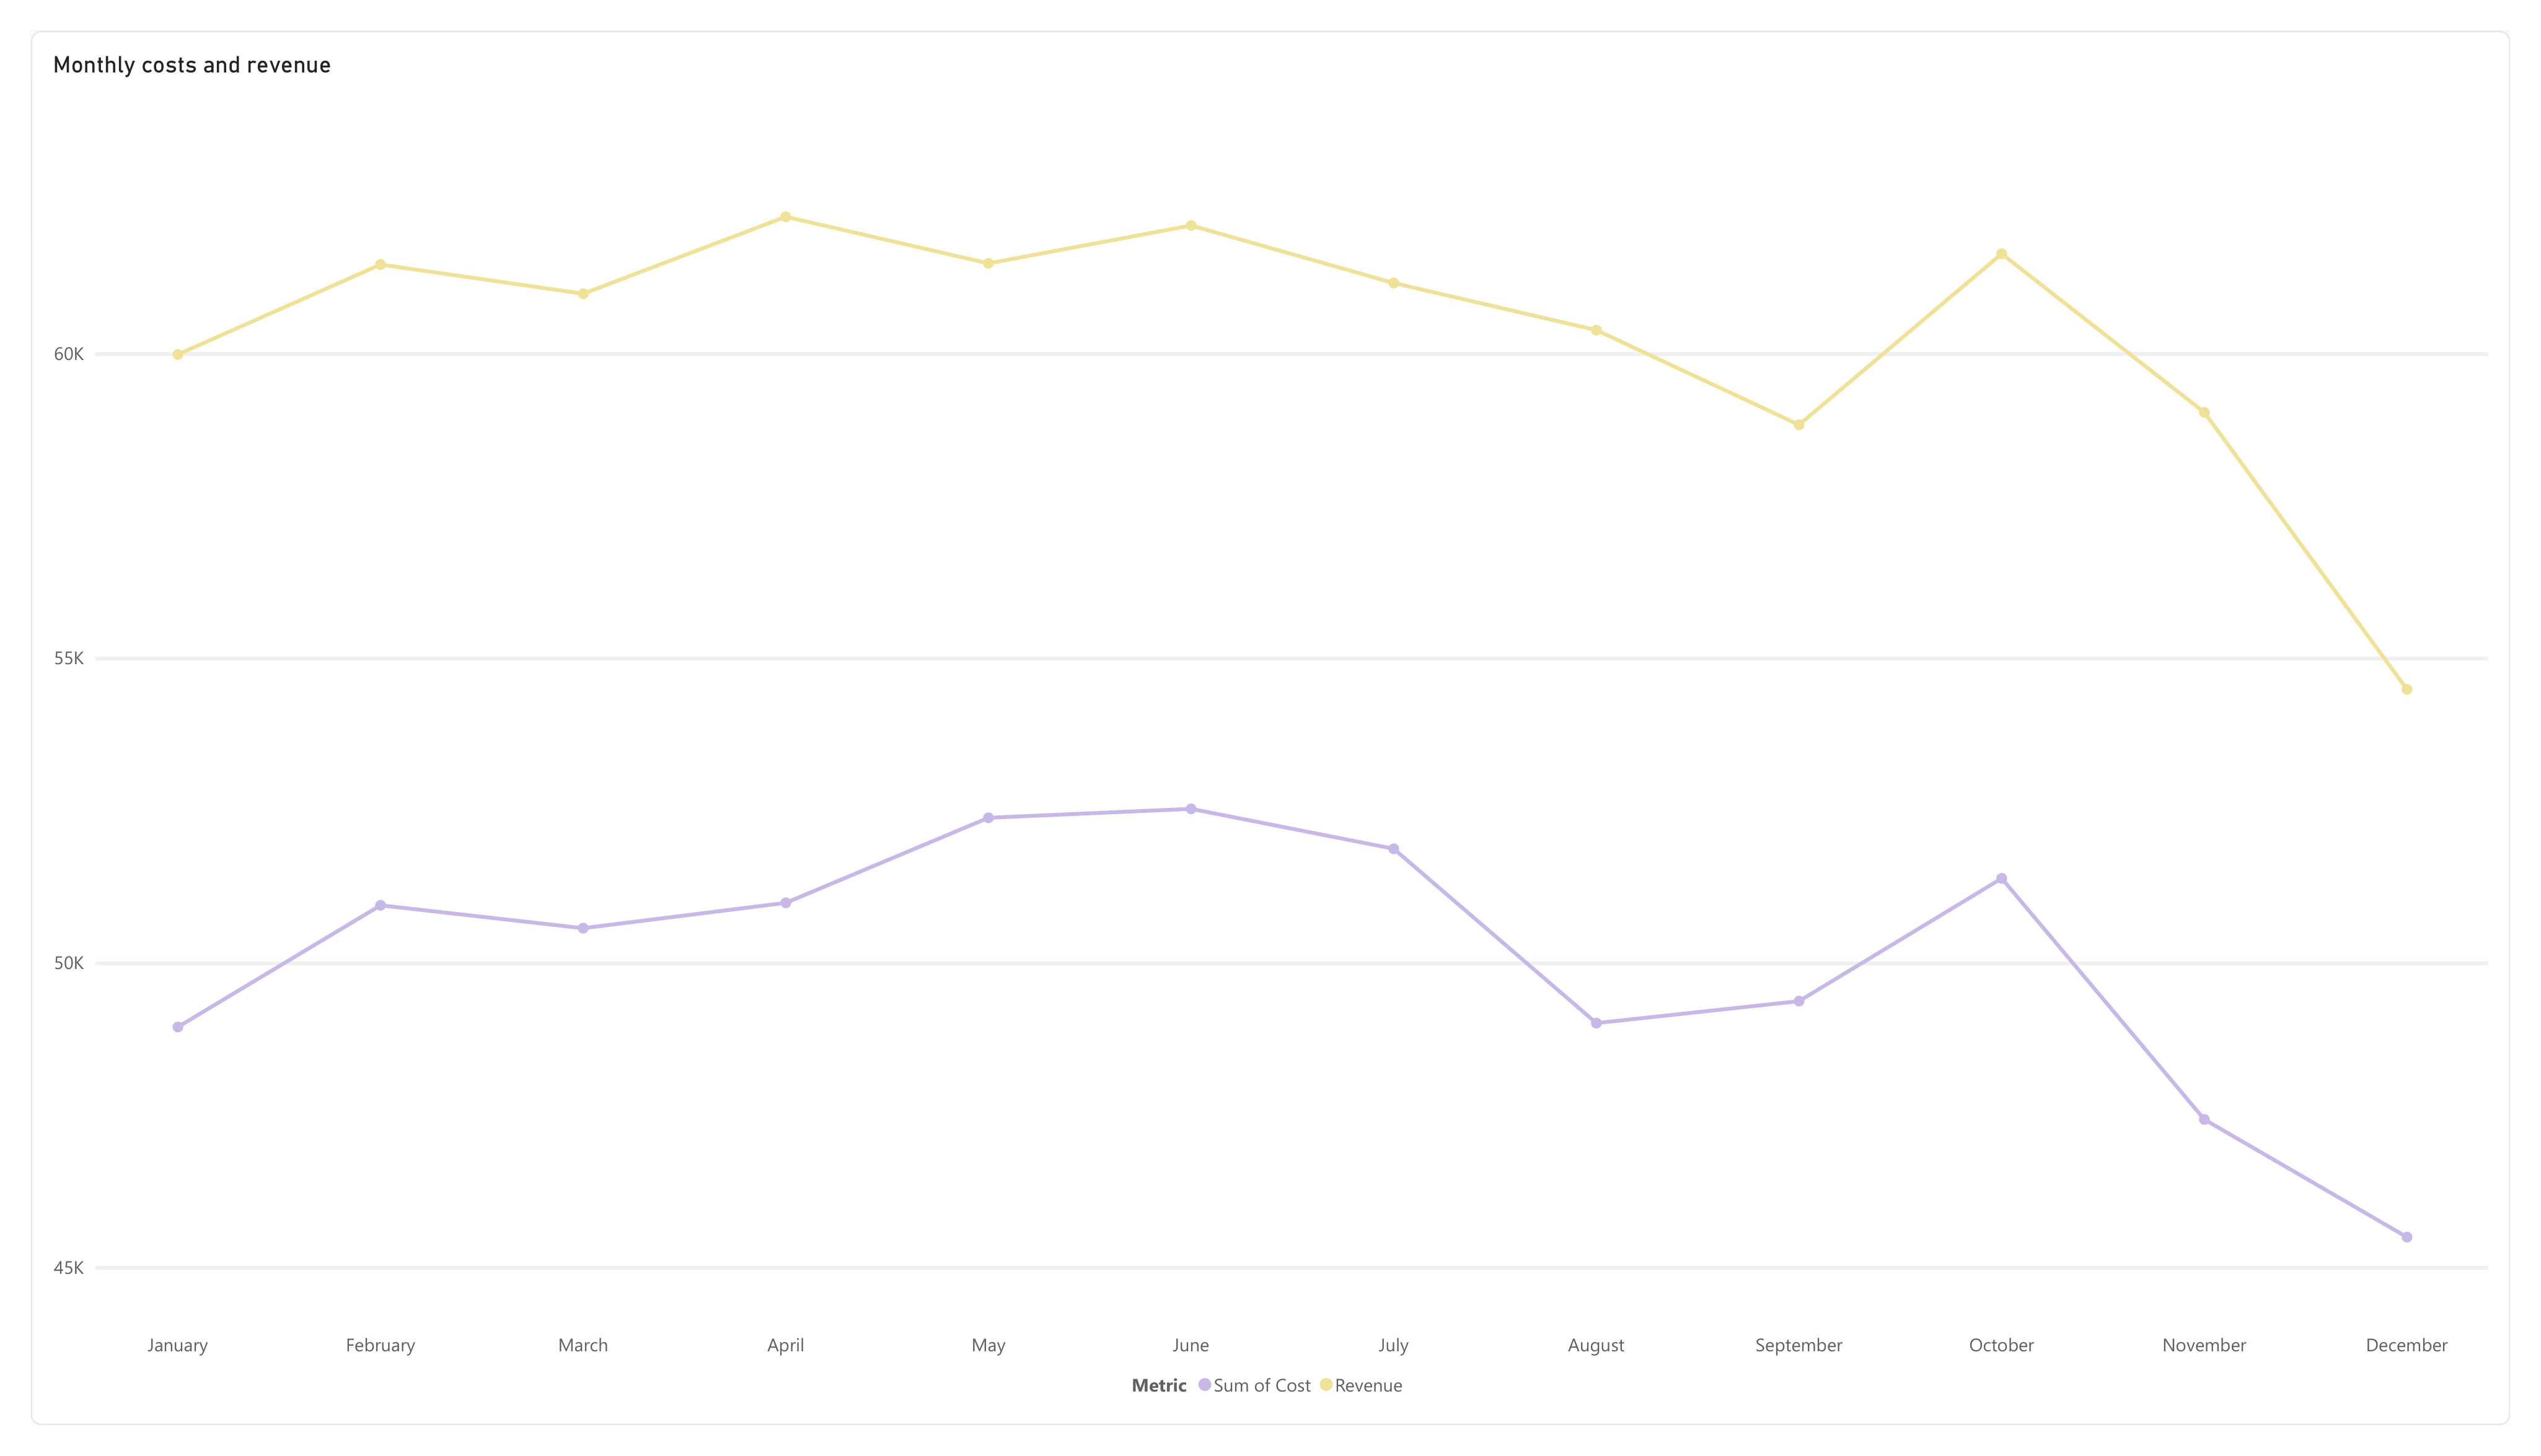

This screenshot's page, from the dashboard's own definition file:
{"tool":"powerbi","page":{"name":"recreating_line","canvas":[1920,1080],"ordinal":0},"visuals":[{"type":"lineChart","title":"Monthly costs and revenue","fields":{"Category":["fake_data.Date.Variation.Date Hierarchy.Month"],"Y":["Sum(fake_data.Cost)","fake_data.Revenue"]},"box":[0,0,1920,1080],"z":0}]}

Visuals, with their boxes on the page's 1920x1080 design canvas (x1, y1, x2, y2). These are canvas units, not pixel positions in the 2541x1456 screenshot, which may show the page scaled, cropped or inside an application window:
"Monthly costs and revenue" lineChart: left=0, top=0, right=1920, bottom=1080
